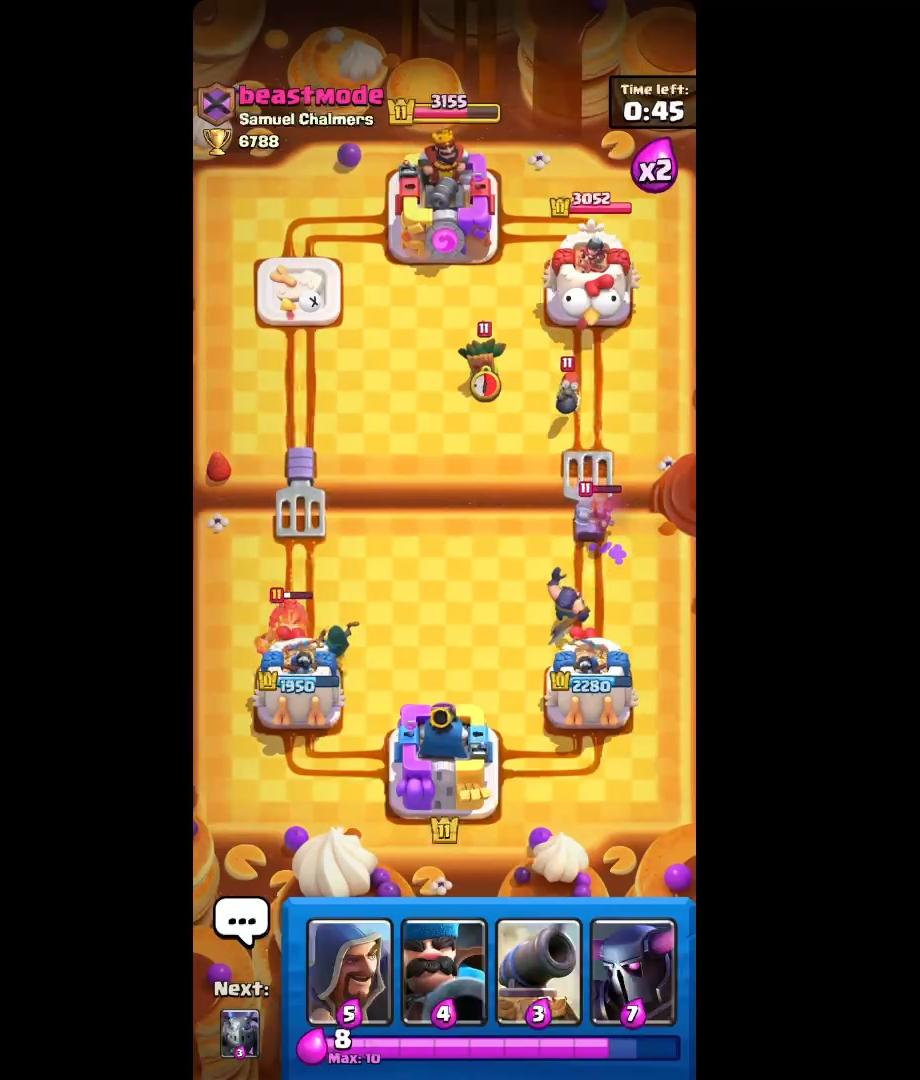Bomber: (552, 352, 585, 423)
Valkyrie: (574, 480, 621, 533)
